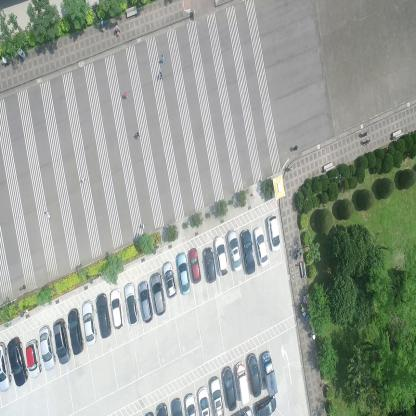car: (7, 338, 29, 388), (52, 318, 72, 364), (66, 306, 84, 355), (261, 350, 279, 398), (238, 228, 256, 275), (95, 292, 112, 339), (38, 325, 56, 369), (221, 364, 237, 411), (253, 224, 269, 268), (150, 272, 166, 316), (137, 279, 153, 323), (124, 282, 140, 326), (227, 228, 242, 274), (82, 300, 97, 346), (235, 362, 251, 405), (0, 340, 13, 392), (24, 341, 42, 378), (214, 234, 229, 277), (109, 287, 124, 330), (209, 376, 225, 416), (176, 251, 190, 296), (247, 352, 261, 397), (266, 215, 282, 253), (162, 260, 177, 299), (188, 247, 202, 283), (203, 245, 216, 283), (255, 394, 276, 416), (197, 386, 212, 416), (184, 392, 196, 416)
